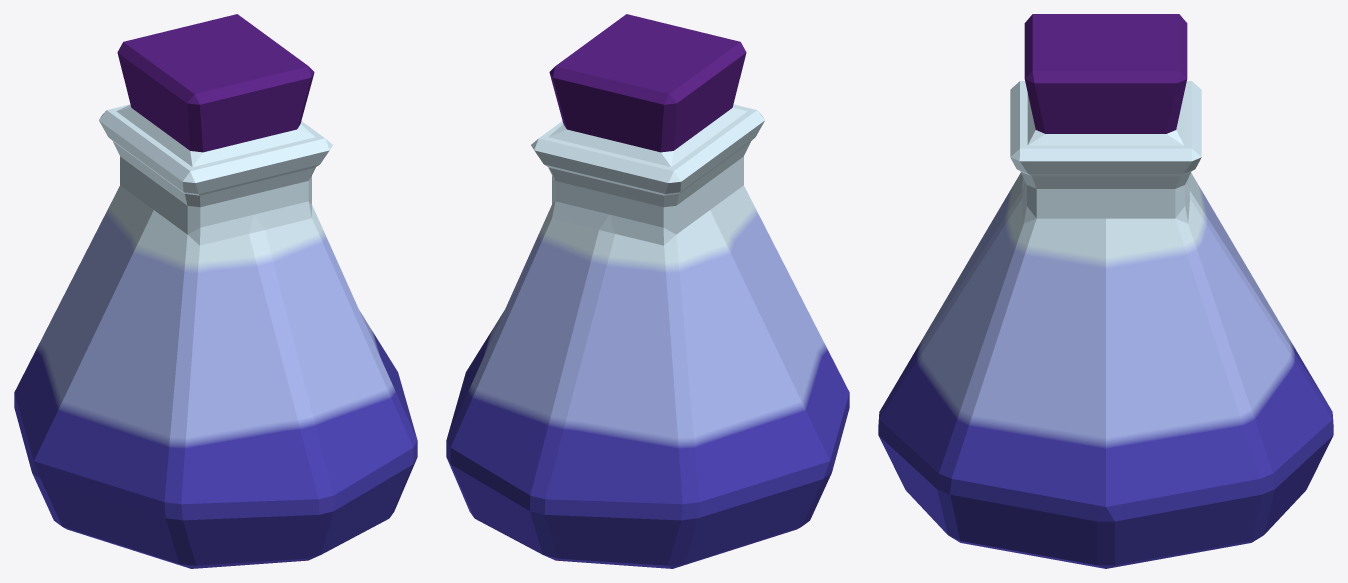
The model's file is Potion2.fbx.
The picture shows the model from 3 angles, left to right: view 1: azimuth 30°, elevation 25°; view 2: azimuth 150°, elevation 25°; view 3: azimuth 270°, elevation 25°; orthographic projection. The views are drawn at different scales.
Parts seen in each view (by area): view 1: Potion.001; view 2: Potion.001; view 3: Potion.001.
Boxes of the visible parts, x1,y1,x2,y2 form: Potion.001: (14,14,417,568); Potion.001: (446,14,849,568); Potion.001: (878,14,1333,568).
Size of the model in its own units: 302 by 349 by 318.
